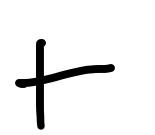plus: (13, 39, 115, 129)
